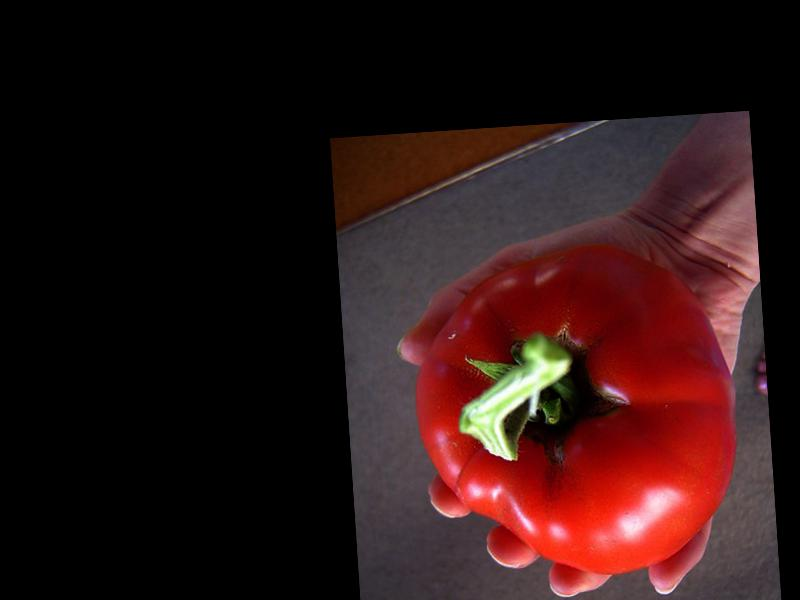Tomato: (405, 237, 744, 585)
